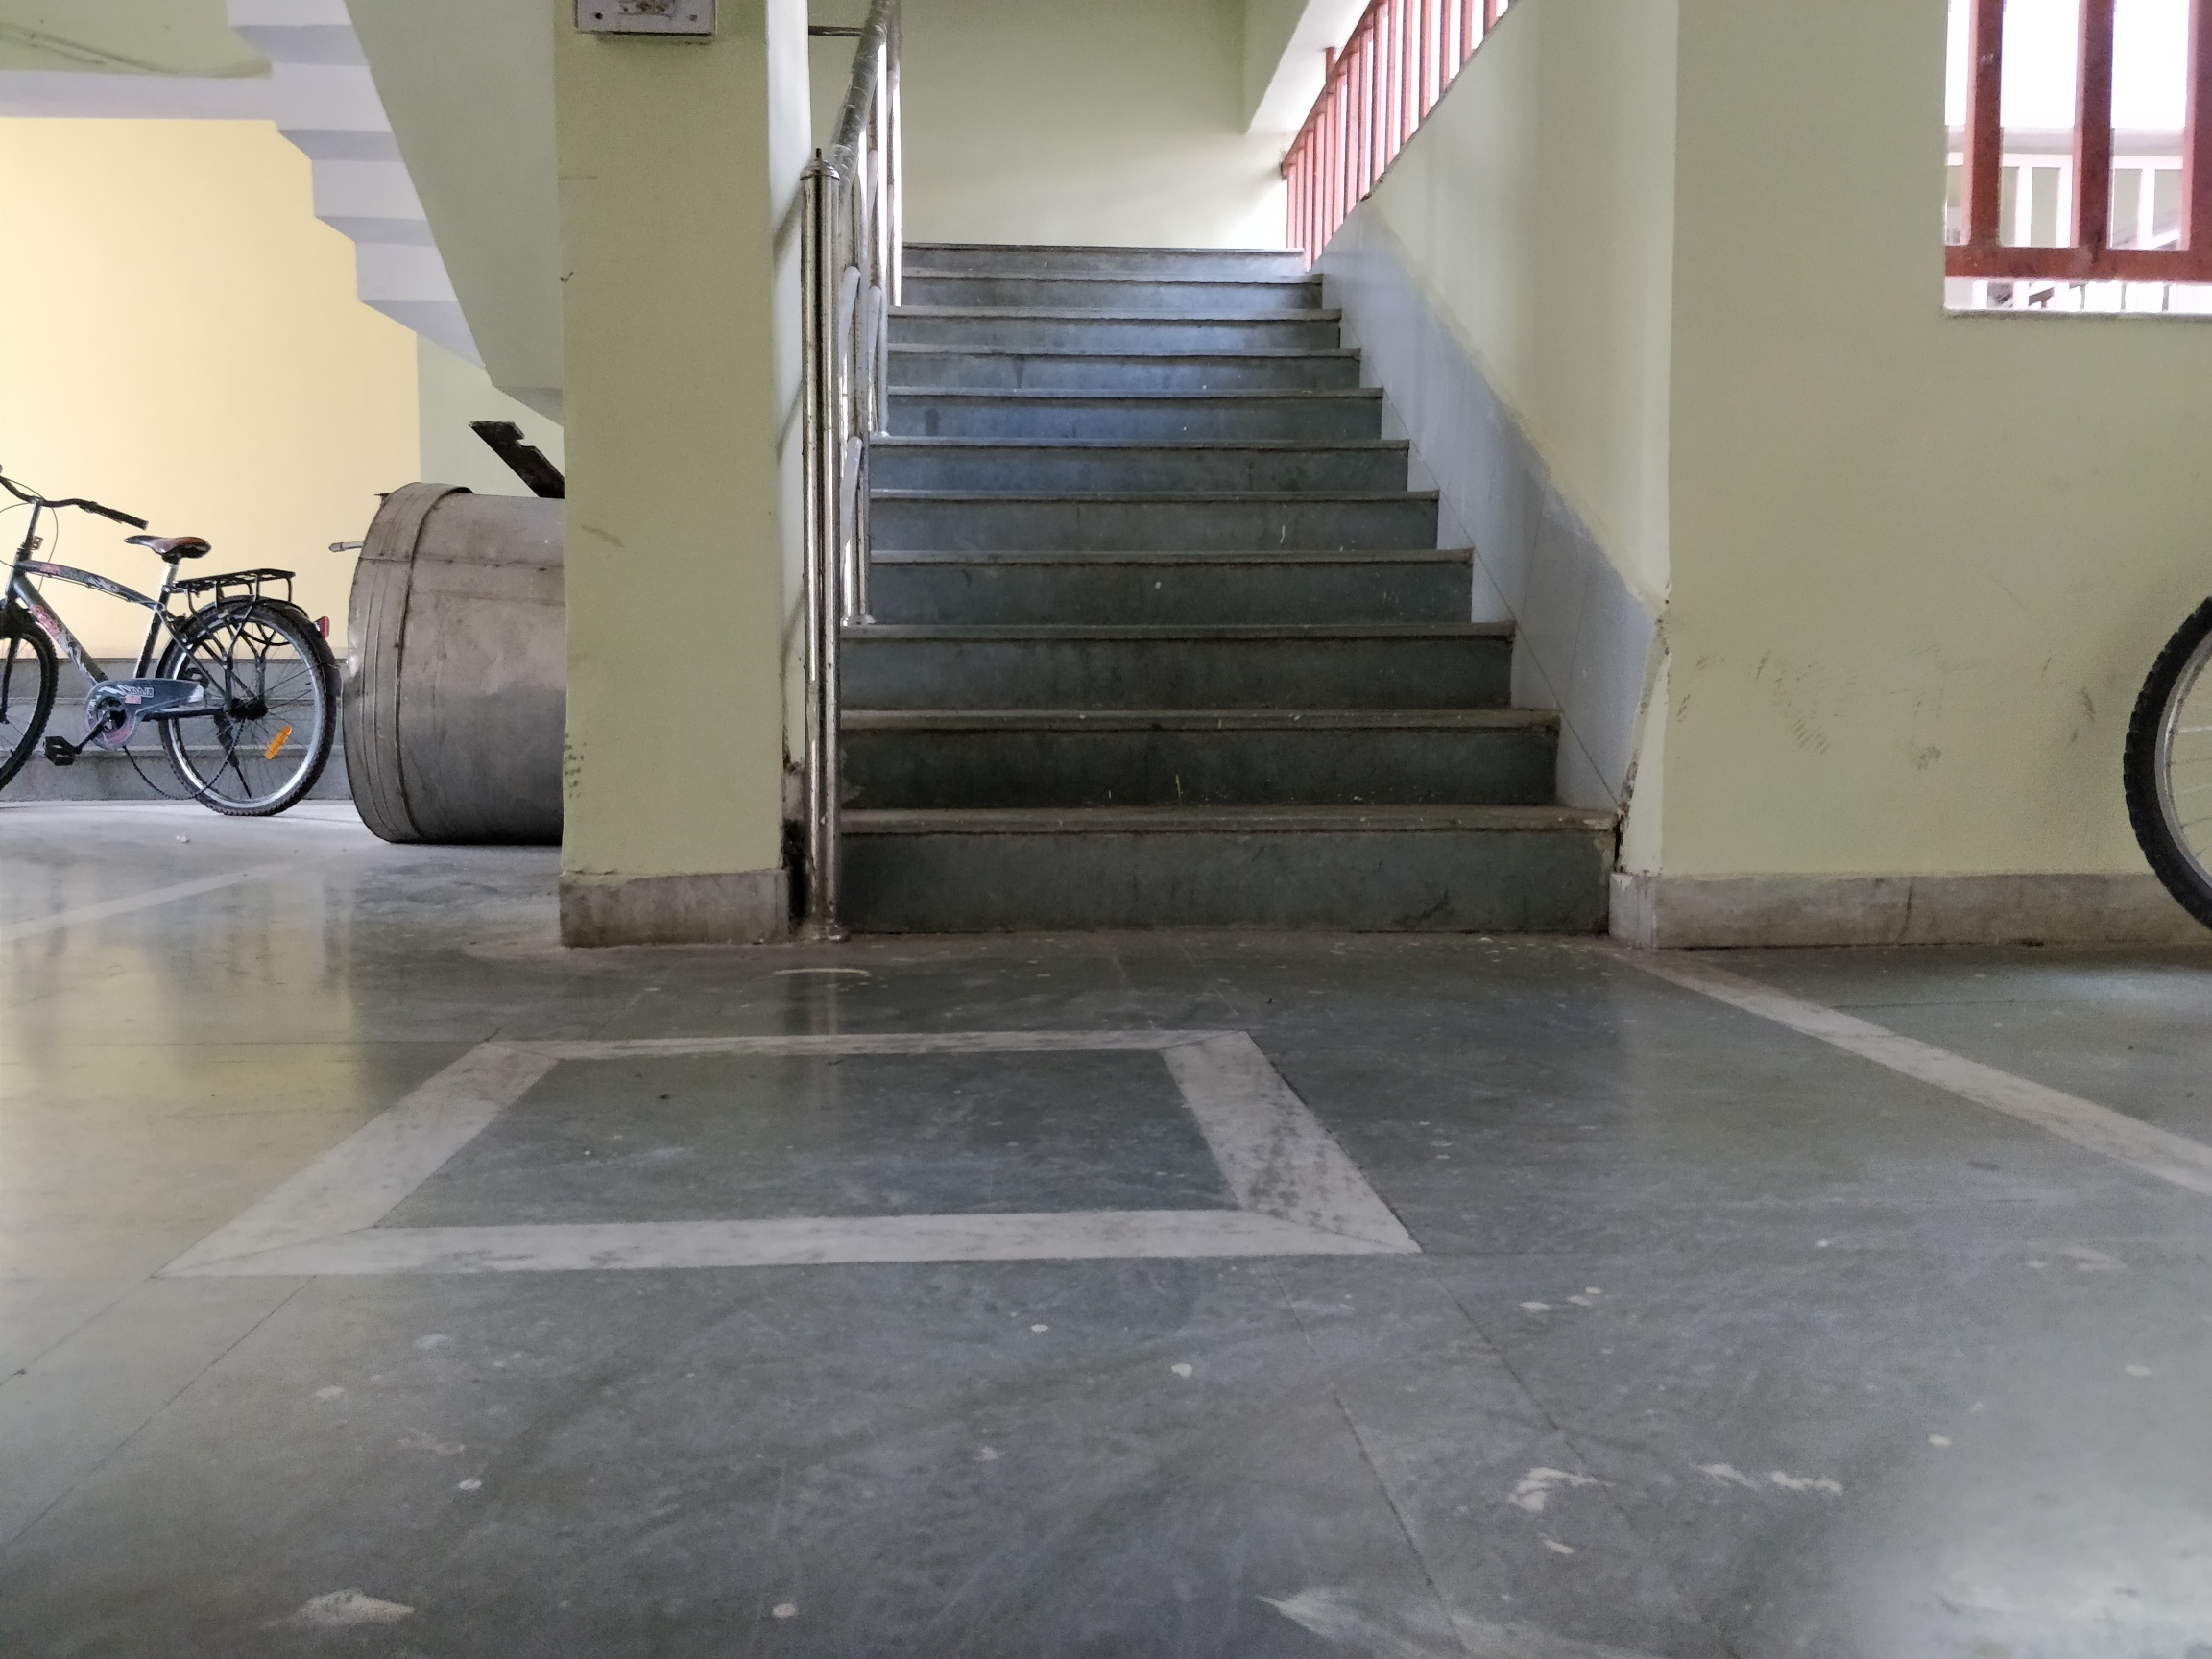stairs_up: (841, 213, 1635, 939)
